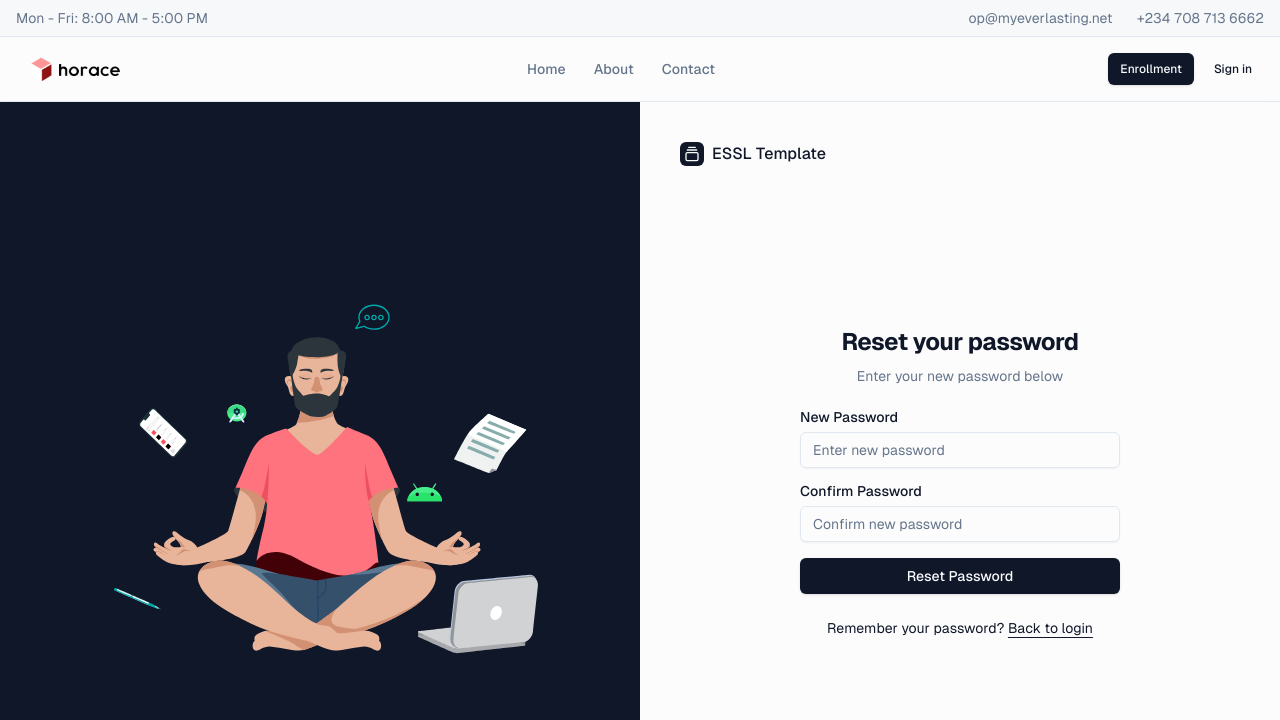
Test: Reset password page › Reset password flow (with token in URL) › shows error when passwords do not match
Type "newpass123" into the password field named "password". click: (960, 450)
box: [800,432,1120,468]
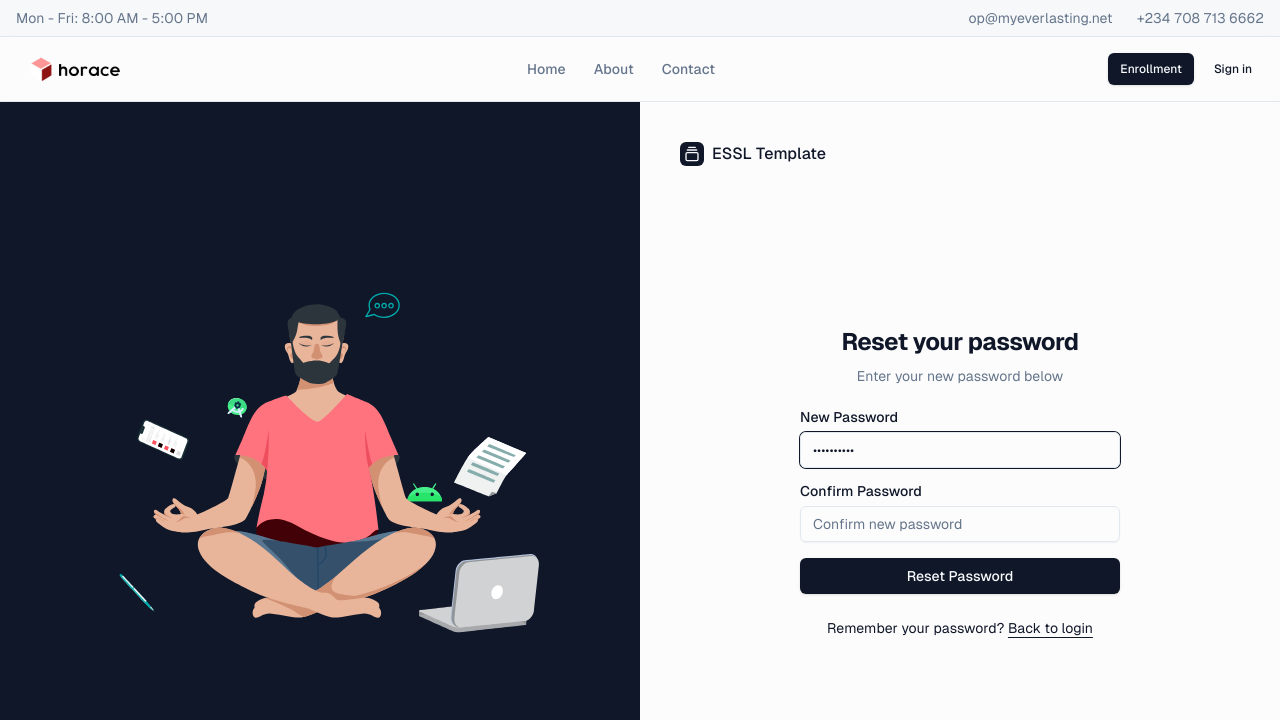
Type "otherpass" into the password field named "confirmPassword". click: (960, 524)
box: [800,506,1120,542]
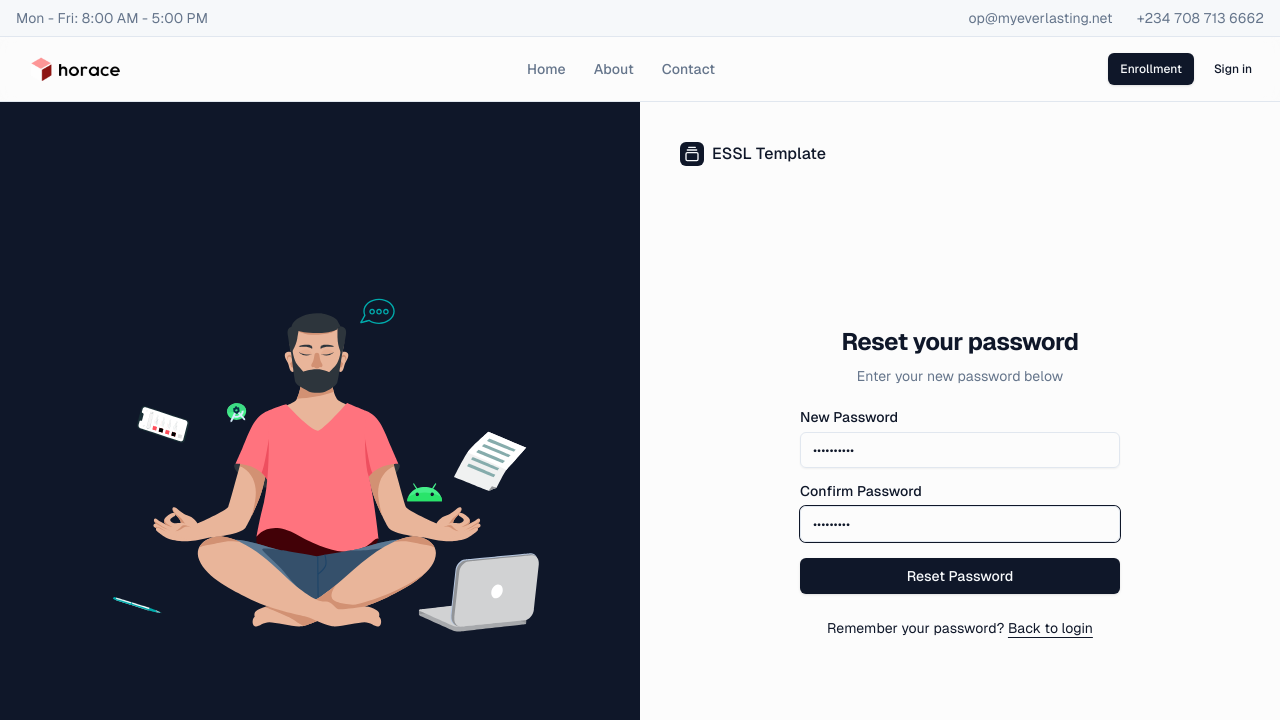
Click the button "Reset Password". click: (960, 576)
box: [800,558,1120,594]
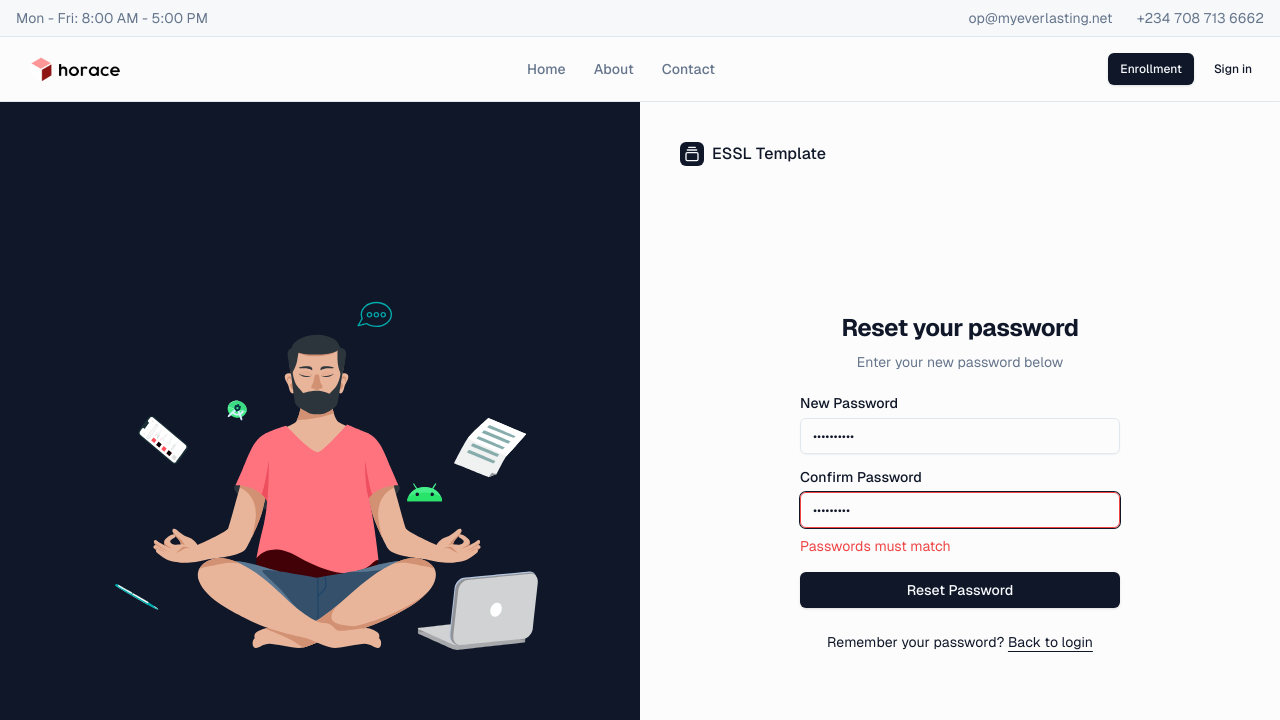
expect the text "Passwords must match" is shown: met, box [800,538,951,554]
